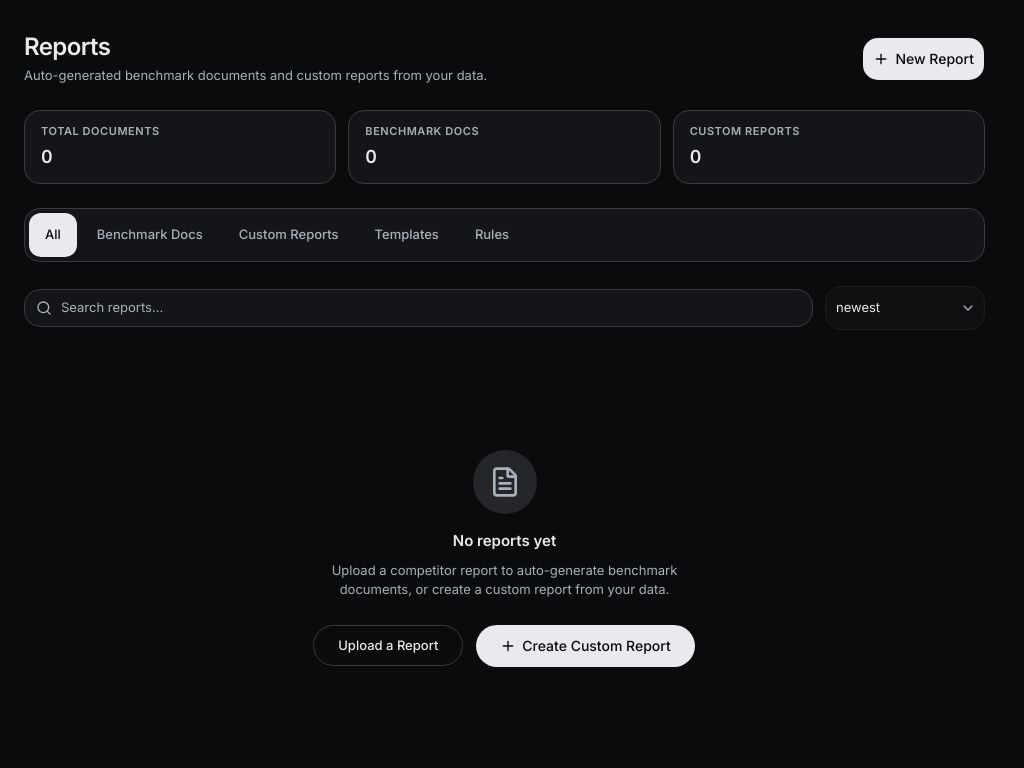
ReportBuilderPage › opens create dialog on button click
Step 1. Click the button "New Report" → (924, 59), box [862, 37, 985, 81]
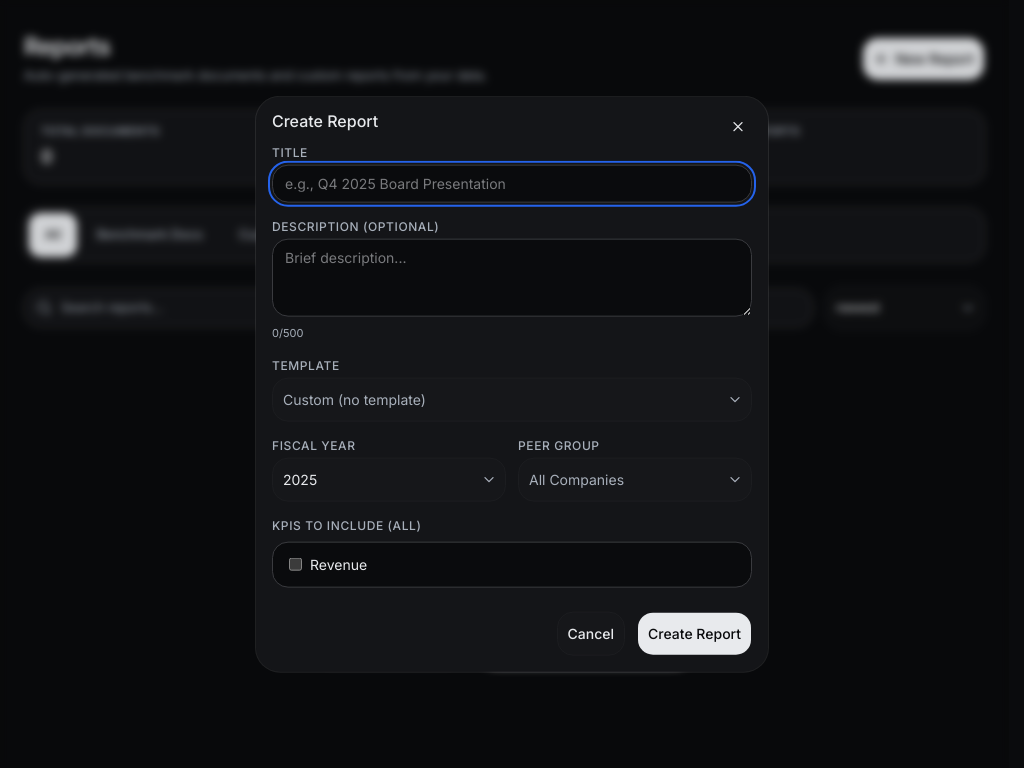
Expected: the field with placeholder "e.g., Q4 2025 Board Presentation" is shown, [272, 165, 752, 203]
